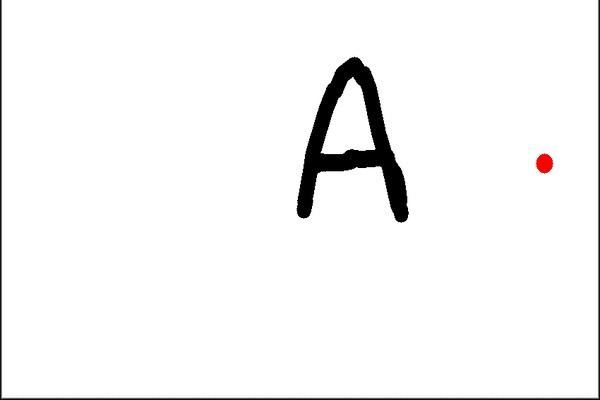A: (288, 54, 417, 228)
